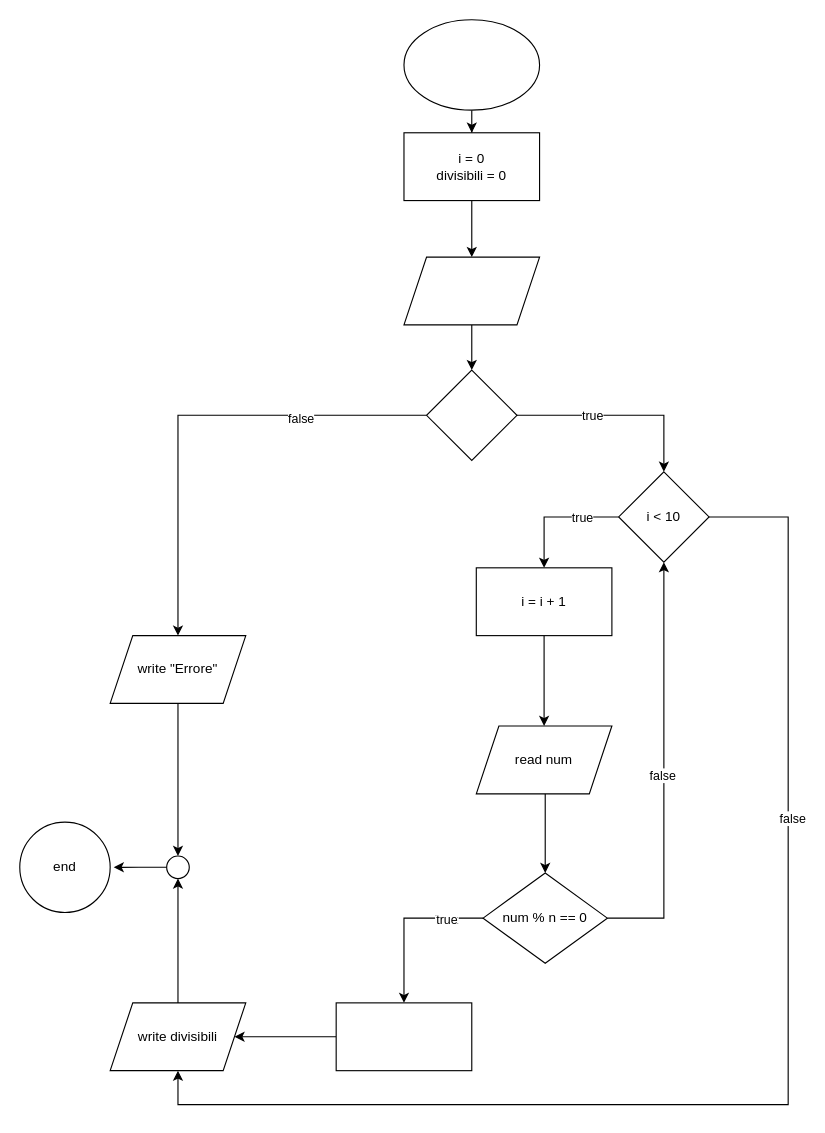
The diagram is 825 pixels wide and 1133 high, and some of its shapes have lost their labels. Here are the shapes that lost their labels. From the top down, the centre of each, then its label:
At (x=471, y=64): "start".
At (x=471, y=290): "read n".
At (x=471, y=414): "n > 0".
At (x=403, y=1036): "divisibili = divisibili + 1".
